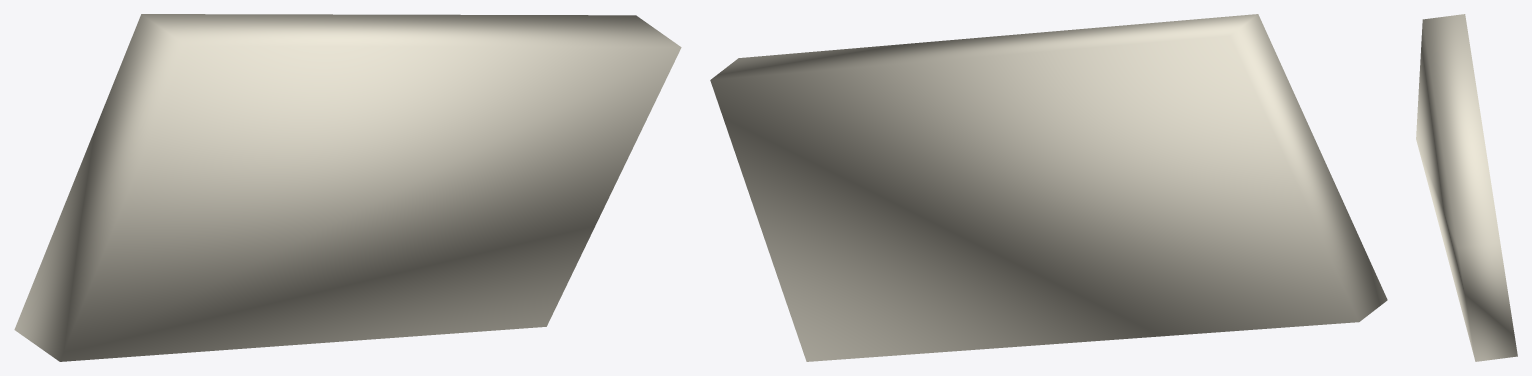
3 renders of one model, left to right at view 1: azimuth 30°, elevation 25°; view 2: azimuth 150°, elevation 25°; view 3: azimuth 270°, elevation 25°, orthographic. The views are drawn at different scales.
Parts seen in each view (by area): view 1: ZA_80d1cf7687dd3a00; view 2: ZA_80d1cf7687dd3a00; view 3: ZA_80d1cf7687dd3a00.
Boxes of the visible parts, x1=… form: ZA_80d1cf7687dd3a00: x1=14, y1=14, x2=681, y2=361; ZA_80d1cf7687dd3a00: x1=710, y1=14, x2=1387, y2=361; ZA_80d1cf7687dd3a00: x1=1416, y1=14, x2=1517, y2=361.
Bounding box in the file's own units: 0.00501 × 0.00302 × 0.00119.
